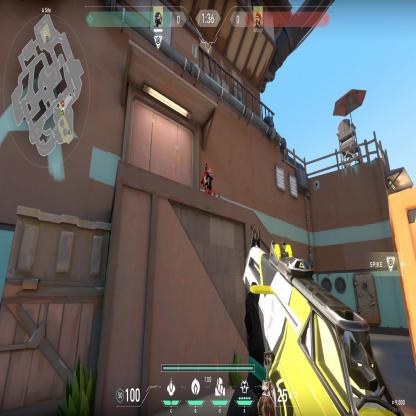enemy: (199, 160, 214, 198)
